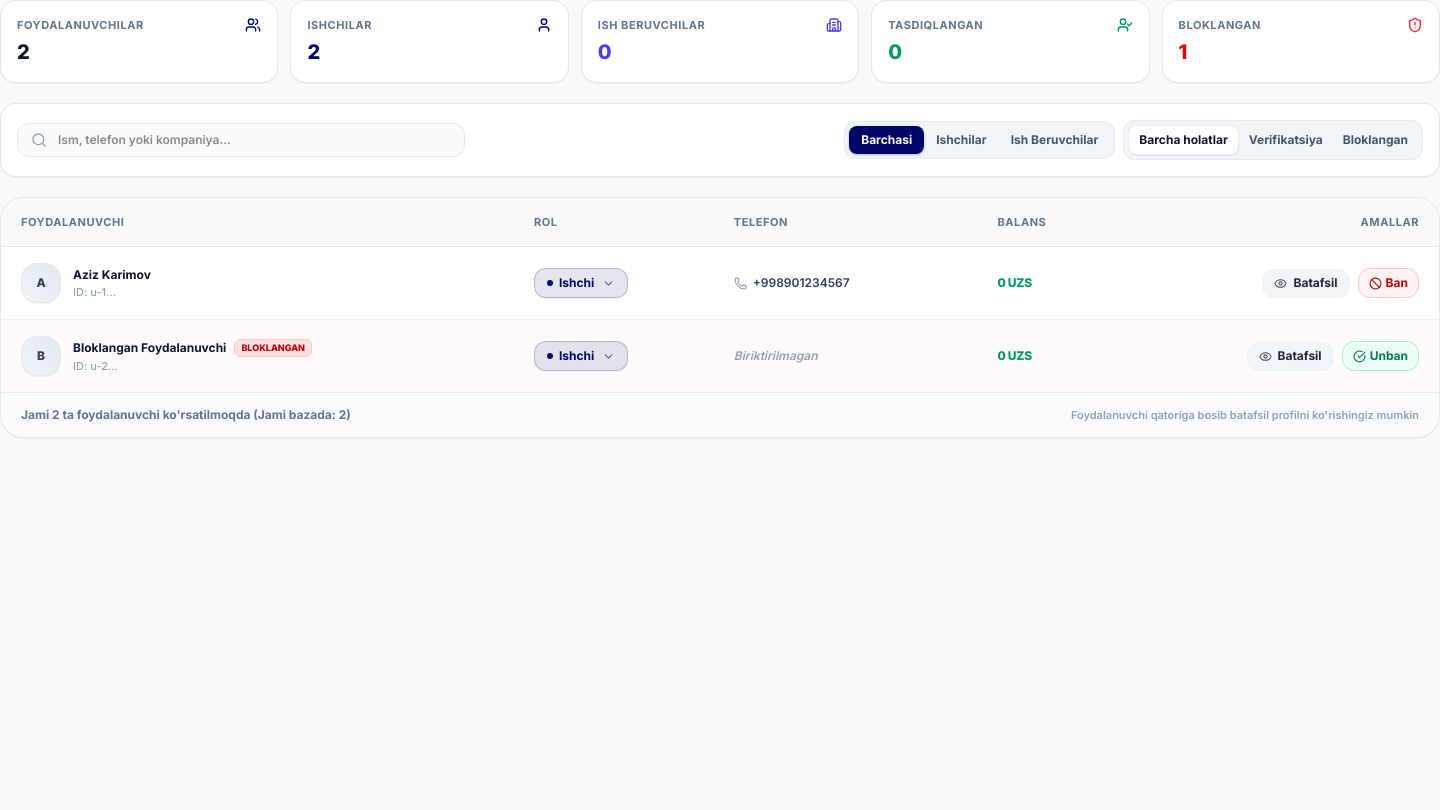
AdminUsers — banning asks before it cuts a user off › opens the ban dialog naming the user
The image size is (1440, 810).
Step 1. Click the button "Ban" → (1388, 283), box [1358, 268, 1419, 298]
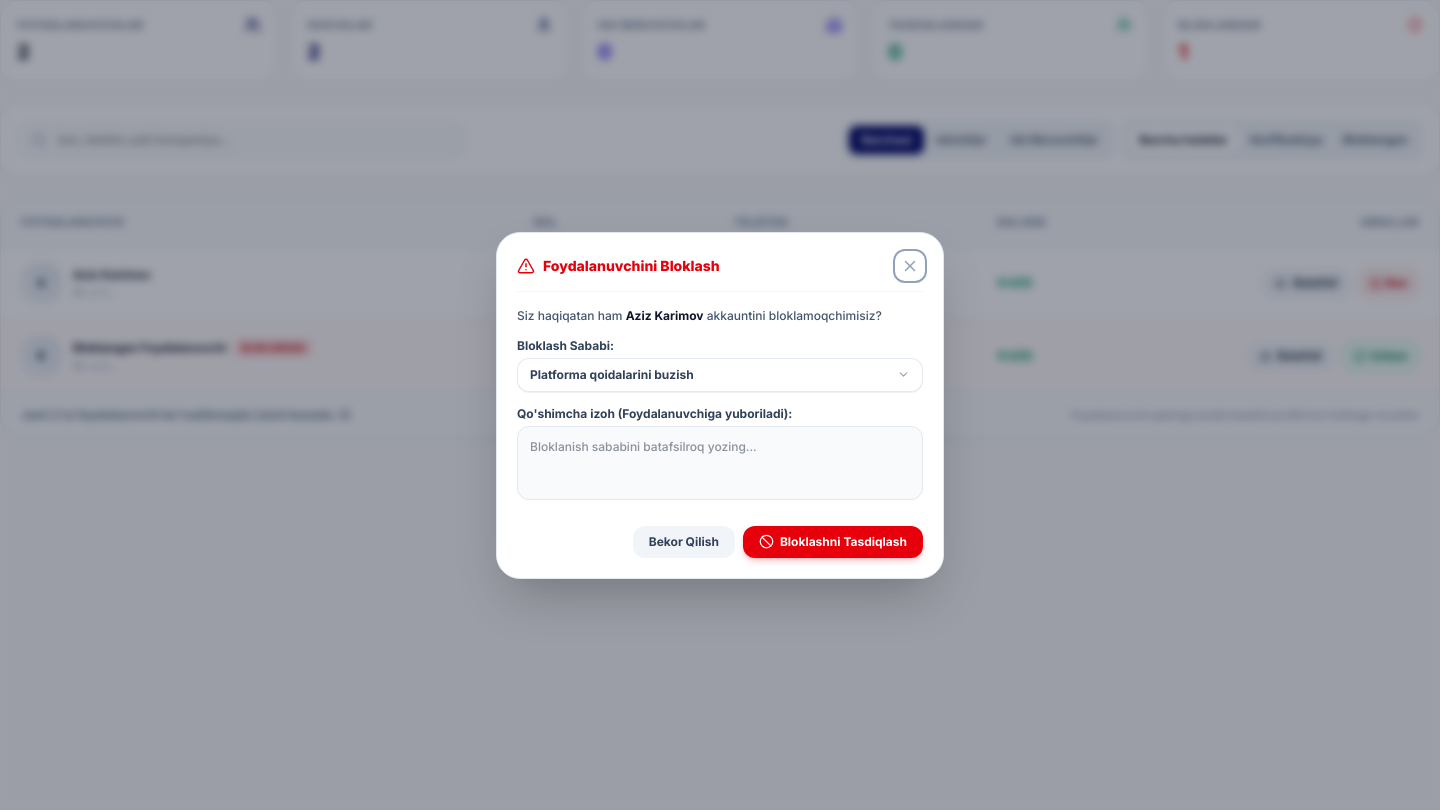
Now the text "Foydalanuvchini Bloklash" is shown, box [543, 256, 720, 276]
Now the text "Aziz Karimov" is shown, box [626, 308, 704, 322]
